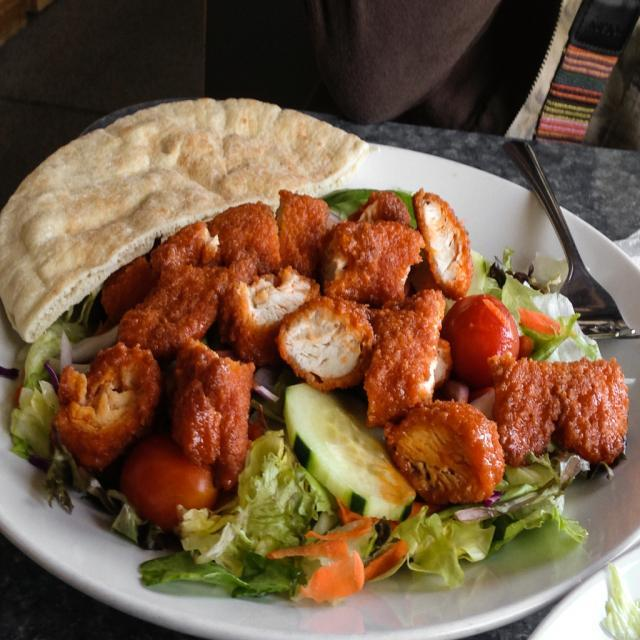Salad: (5, 178, 629, 608)
